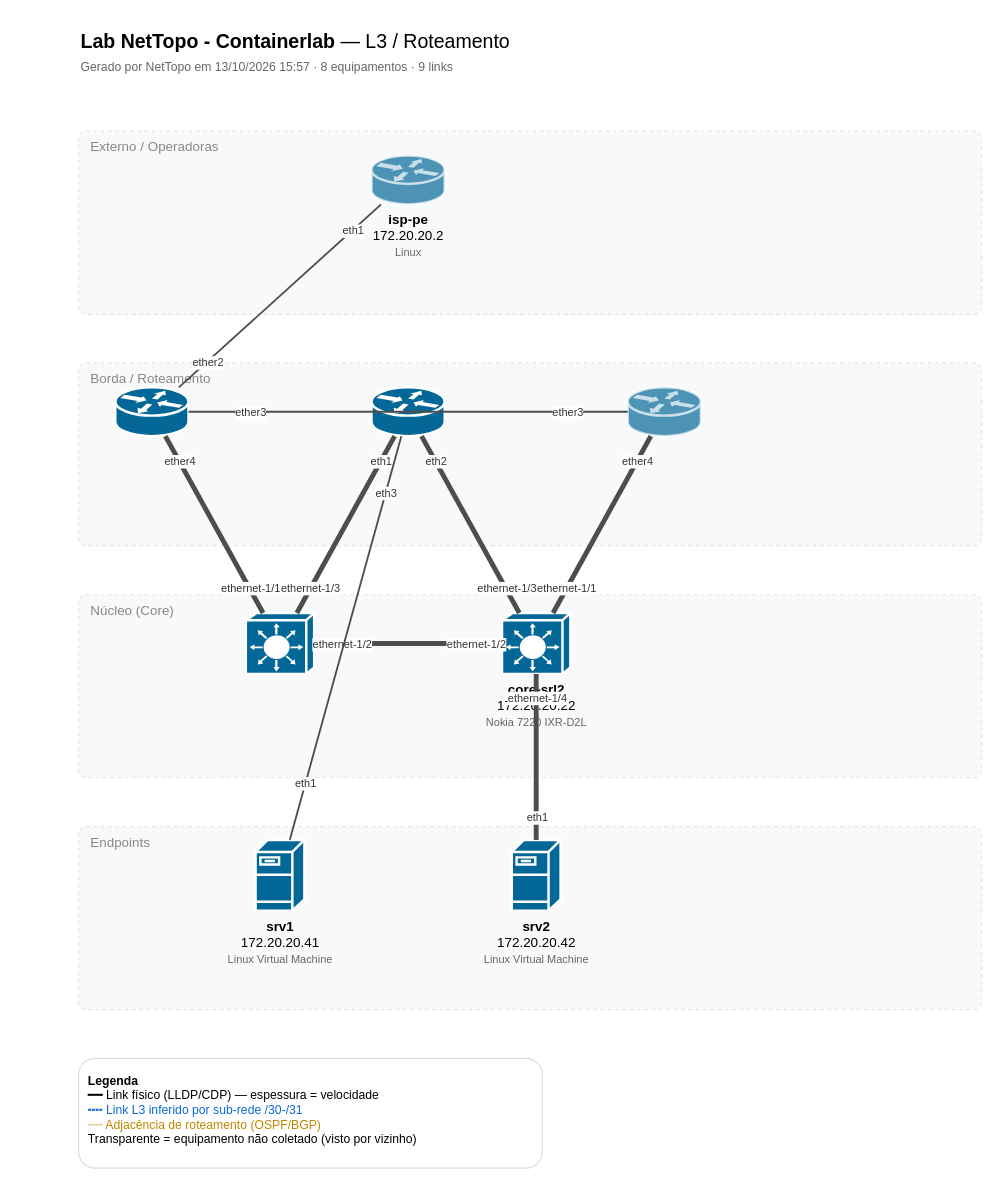
This 1003x1190 diagram has some shape labels left out. The shapes that lost their labels are listed below. From the top down, each one's centre as x and y in pixels, then its label:
the point at 151,411: edge-mk1 172.20.20.11 MikroTik CHR QEMU Standard PC (i440FX + PIIX, 19
the point at 407,411: dist-frr1 172.20.20.31 Linux Virtual Machine
the point at 664,411: edge-mk2 10.10.2.1 MikroTik MikroTik RouterOS 7.16.2 (stable) 2024-
the point at 279,643: core-srl1 172.20.20.21 Nokia 7220 IXR-D2L
